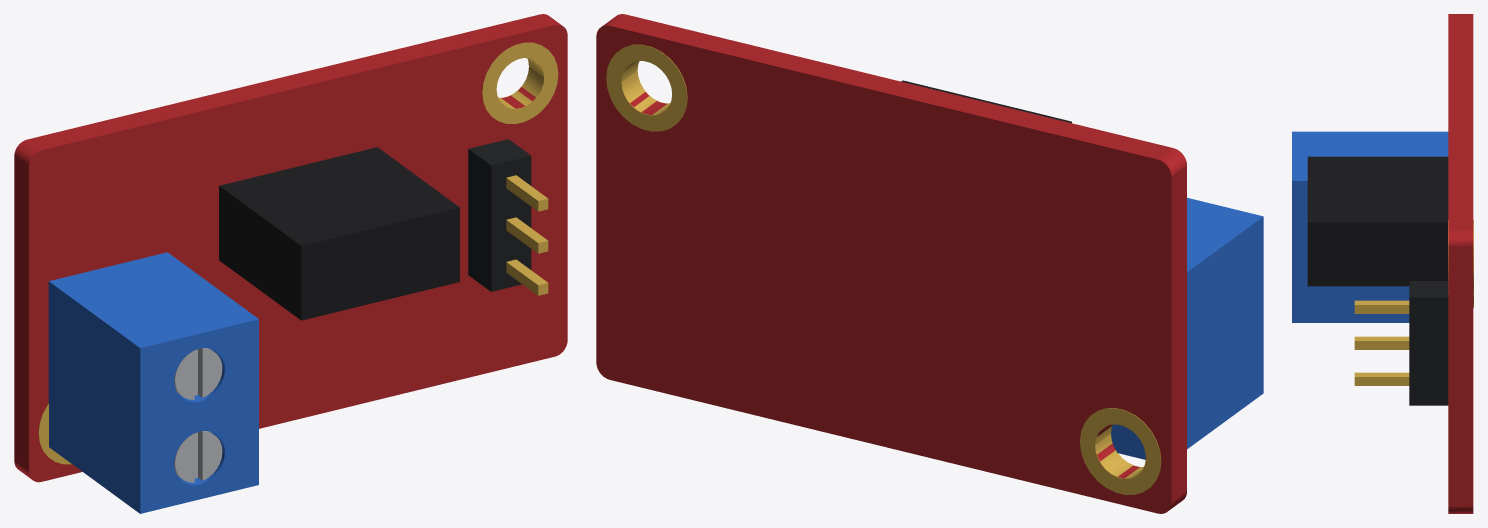
Rendered from mosfet-module.glb.
3 renders of one model, left to right at view 1: azimuth 30°, elevation 25°; view 2: azimuth 150°, elevation 25°; view 3: azimuth 270°, elevation 25°, orthographic. The views are drawn at different scales.
Visible parts, largest first — view 1: board, terminal_2, irf520, header_3, terminal_2_screws, hole_2, header_3_pins; view 2: board, terminal_2, hole_2, hole_1; view 3: irf520, board, terminal_2, header_3, header_3_pins.
Part boxes in pixels (x1,y1,x2,y2): board: (14,14,567,482); terminal_2: (48,252,258,513); irf520: (219,147,459,320); header_3: (468,139,531,291); terminal_2_screws: (174,348,222,482); hole_2: (482,42,558,123); header_3_pins: (506,175,548,295); board: (596,14,1186,513); terminal_2: (1111,197,1263,459); hole_2: (606,44,687,131); hole_1: (1080,408,1161,494); irf520: (1307,156,1448,286); board: (1448,14,1473,513); terminal_2: (1292,131,1448,322); header_3: (1409,281,1448,405); header_3_pins: (1354,300,1409,385).
Size of the model in its own units: 34 by 20 by 11.63.
